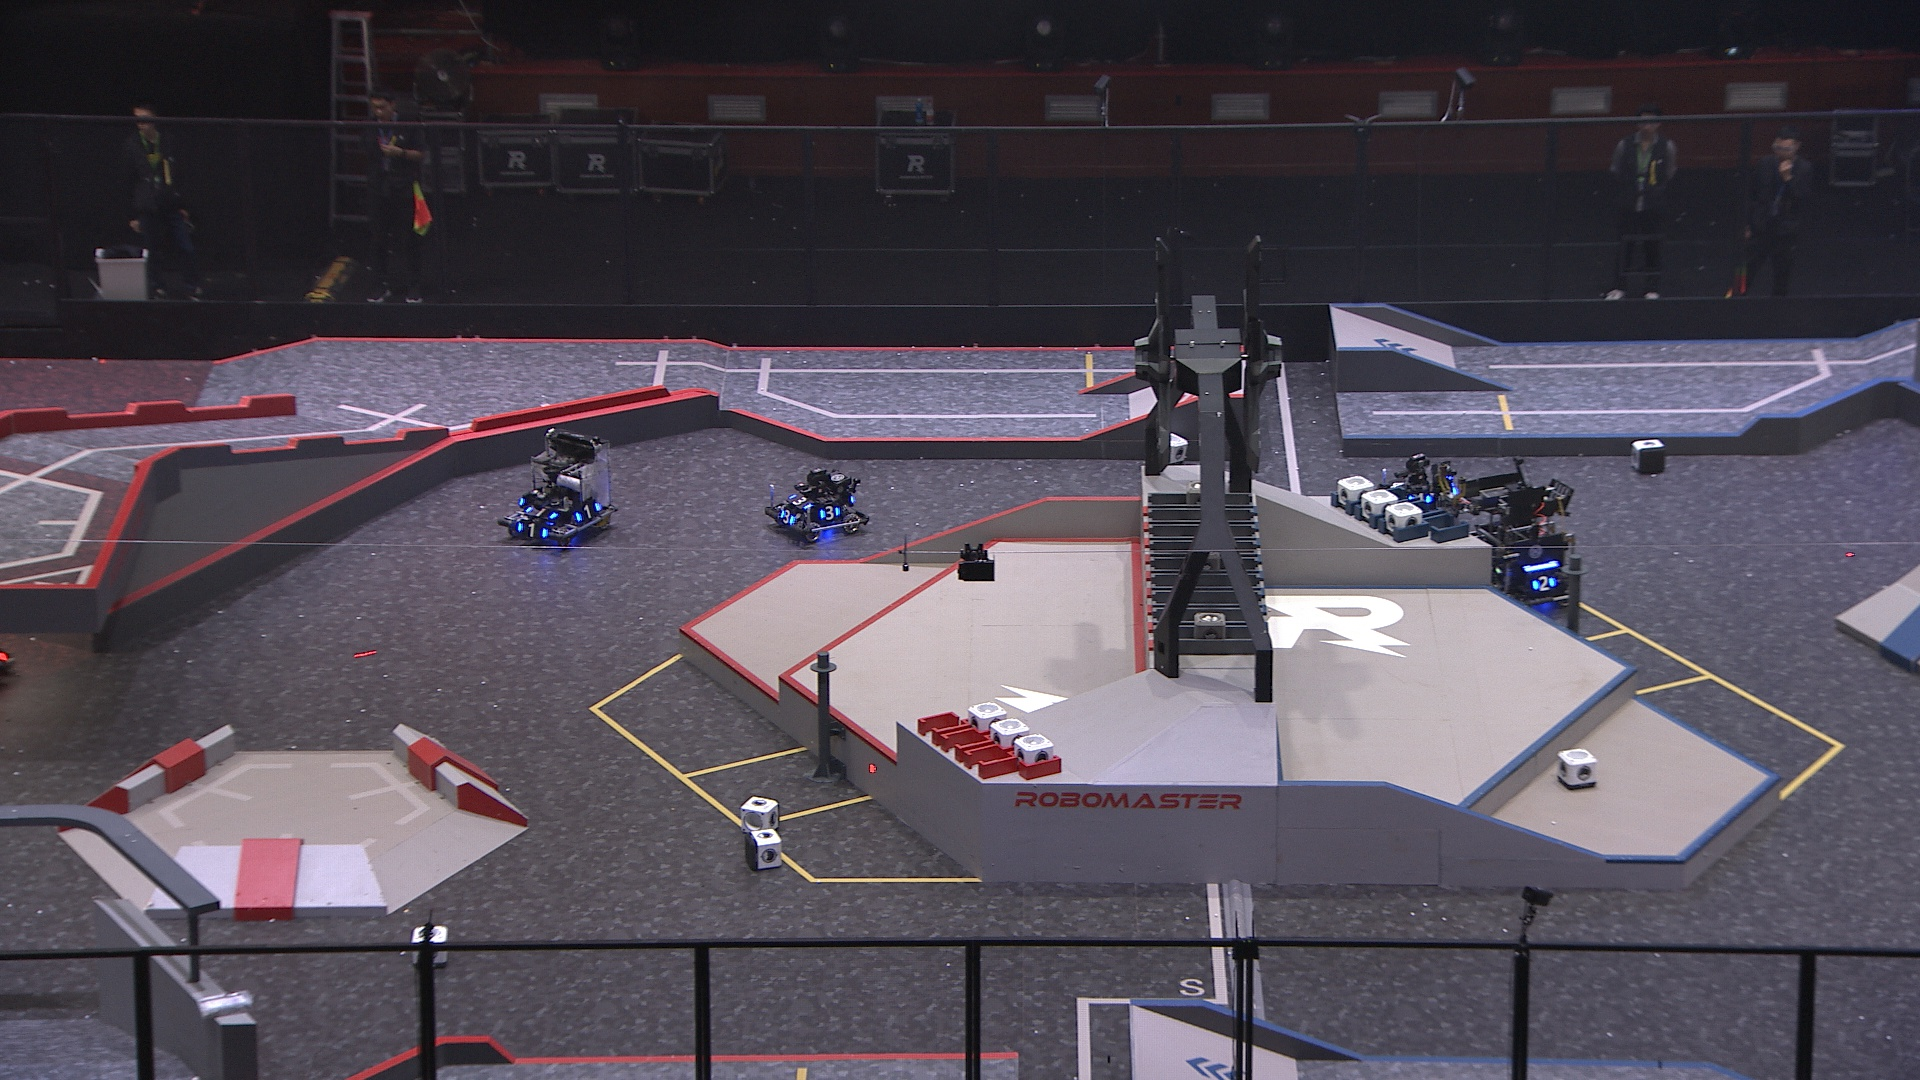armor: (514, 518, 551, 542), (522, 501, 558, 524), (785, 489, 816, 514), (575, 500, 600, 526), (1531, 574, 1560, 595), (814, 502, 843, 524), (1408, 489, 1436, 510), (775, 506, 799, 529), (1447, 477, 1462, 501), (1389, 476, 1406, 493)
car: (1451, 483, 1576, 612), (501, 429, 617, 545), (760, 462, 869, 541), (1375, 451, 1462, 517)
